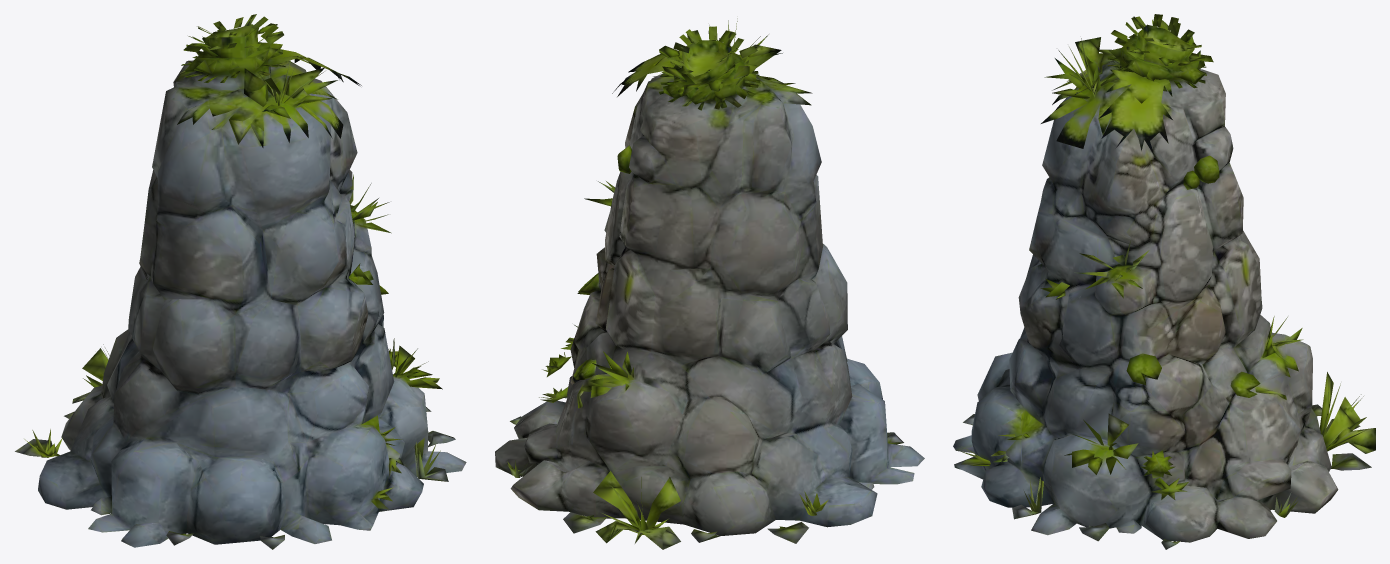
The model's file is rock-outcrop.glb.
The picture shows the model from 3 angles, left to right: view 1: azimuth 30°, elevation 25°; view 2: azimuth 150°, elevation 25°; view 3: azimuth 270°, elevation 25°; orthographic projection. The views are drawn at different scales.
Visible parts, largest first — view 1: tripo_node_25a90d66-3d38-4d86-8976-fadc515e498c; view 2: tripo_node_25a90d66-3d38-4d86-8976-fadc515e498c; view 3: tripo_node_25a90d66-3d38-4d86-8976-fadc515e498c.
Part boxes in pixels (bbox=[...]): tripo_node_25a90d66-3d38-4d86-8976-fadc515e498c: bbox=[15, 14, 466, 549]; tripo_node_25a90d66-3d38-4d86-8976-fadc515e498c: bbox=[495, 18, 924, 549]; tripo_node_25a90d66-3d38-4d86-8976-fadc515e498c: bbox=[953, 14, 1375, 549].
Bounding box in the file's own units: 0.8886 × 0.998 × 0.8808.
1 material, 1 textured.
